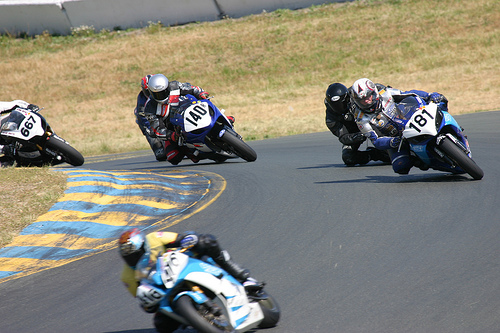helmet: (116, 234, 147, 262), (352, 79, 378, 106), (324, 83, 350, 105), (146, 80, 167, 97)
